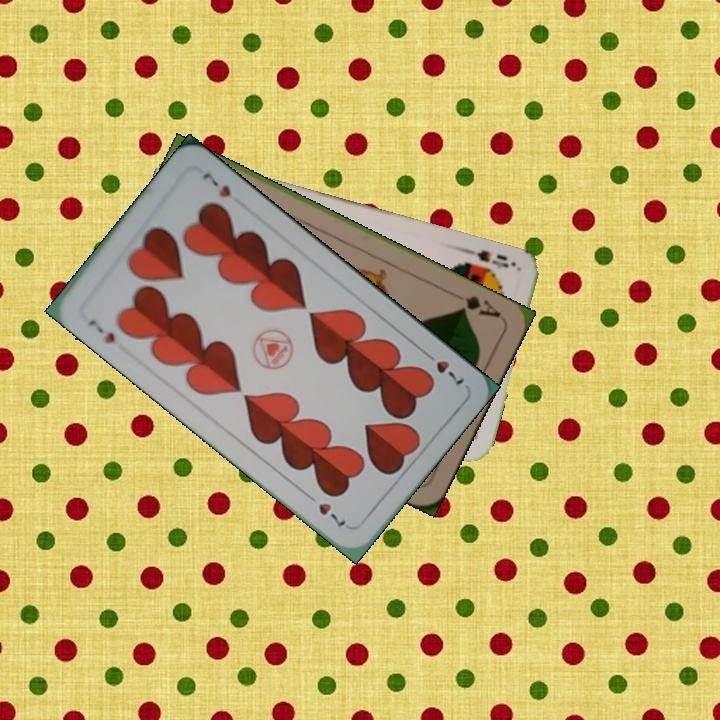GA: (455, 291, 504, 321)
H7: (418, 346, 467, 388), (84, 315, 118, 347)
SO: (459, 244, 512, 272)
